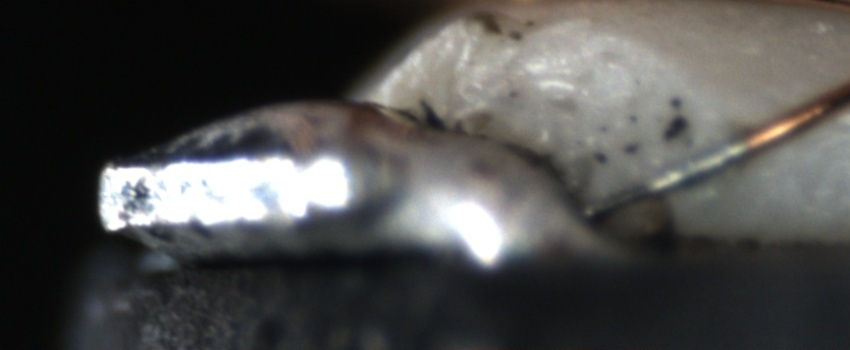TS: (586, 141, 750, 220)
